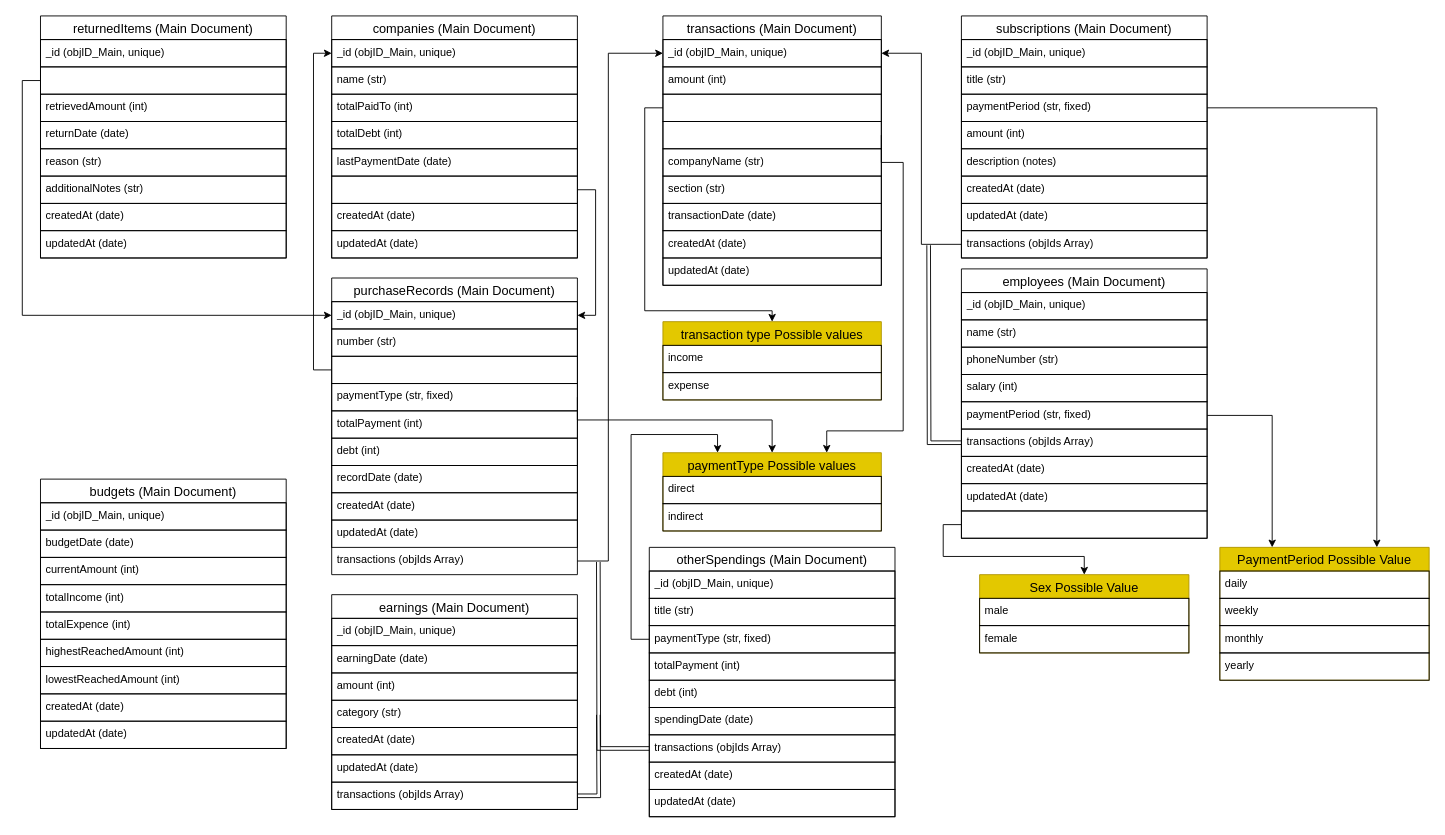
This 1445x835 diagram has some shape labels left out. The shapes that lost their labels are listed below. From the top down, each one's centre as x and y in pixels, then its label:
At (163,80): "purchaseRecordId (objid_ref)".
At (771,107): "type (str, fixed values)".
At (771,135): "paymentType (str, fixed values)".
At (454,189): "purchaseRecords (array, objIds)".
At (454,369): "companyId (objId_ref)".
At (1084,524): "sex (str, fixed values)".
